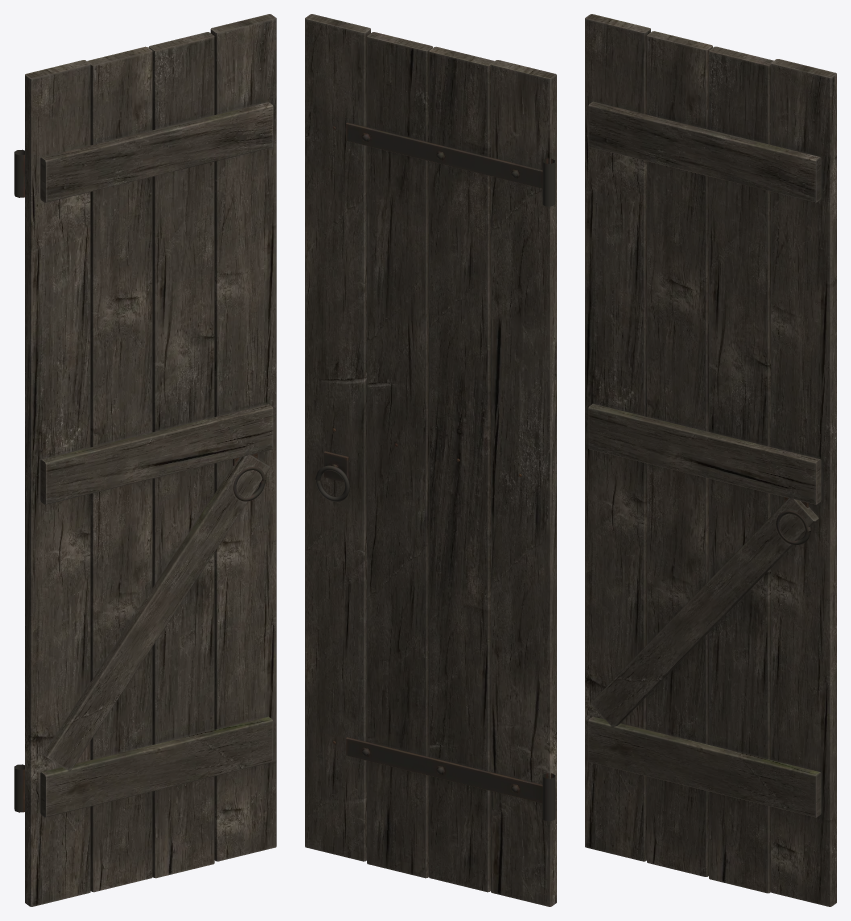
The model's file is door_chapel_r.glb.
3 renders of one model, left to right at view 1: azimuth 30°, elevation 25°; view 2: azimuth 150°, elevation 25°; view 3: azimuth 330°, elevation 25°, orthographic.
Parts seen in each view (by area): view 1: door_chapel_r; view 2: door_chapel_r; view 3: door_chapel_r.
Boxes of the visible parts, x1,y1,x2,y2 form: door_chapel_r: [14, 14, 276, 906]; door_chapel_r: [305, 14, 556, 906]; door_chapel_r: [585, 14, 836, 906].
Bounding box in the file's own units: 0.745 × 2.34 × 0.093.
1 material, 1 textured.
